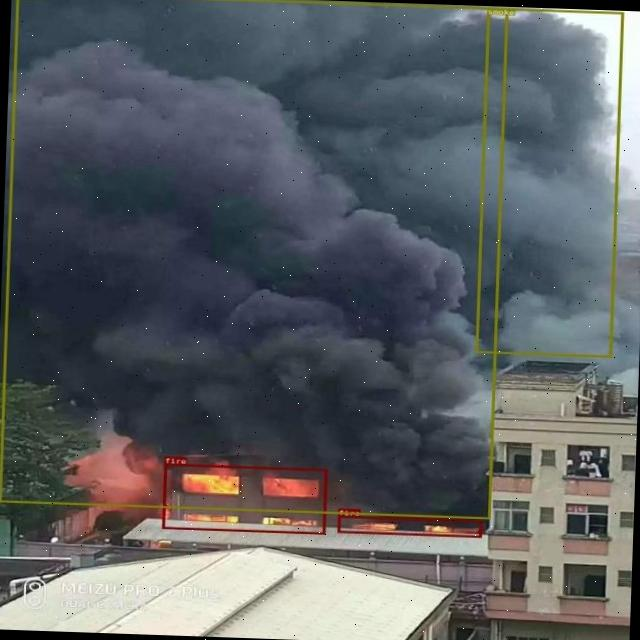fire: (162, 464, 326, 534), (336, 514, 482, 536)
smoke: (0, 0, 507, 519), (475, 8, 623, 358)
